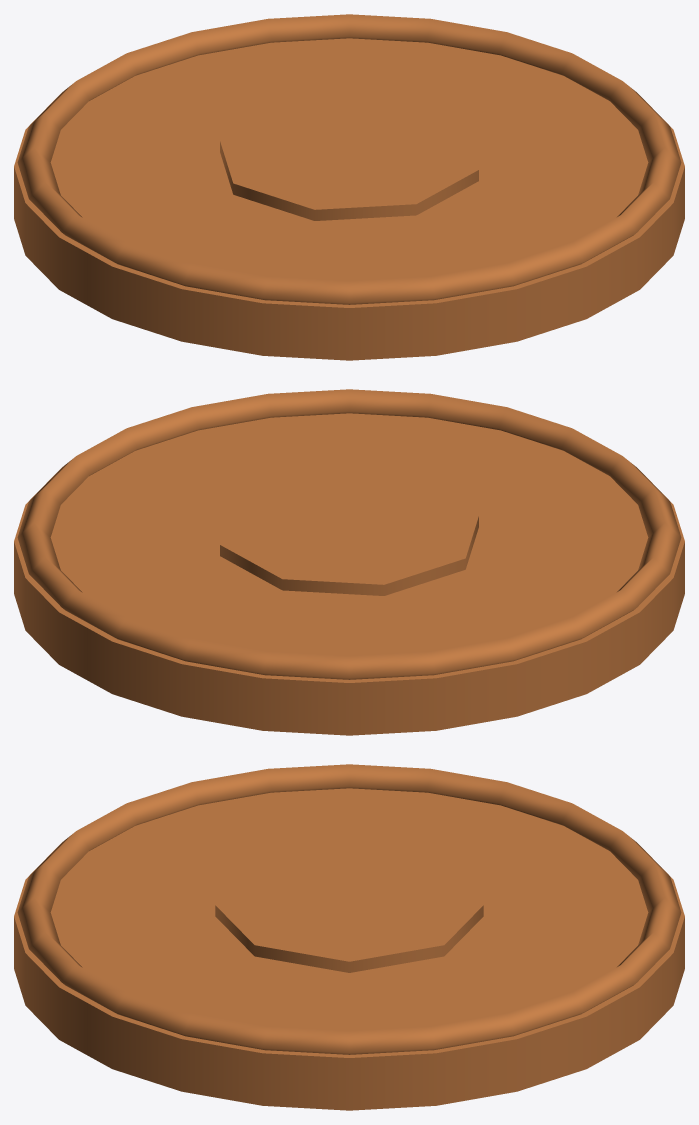
Rendered from coin.glb.
3 views of the same model, one above another, from view 1: azimuth 30°, elevation 25°; view 2: azimuth 150°, elevation 25°; view 3: azimuth 270°, elevation 25° (orthographic).
Parts seen in each view (by area): view 1: coin; view 2: coin; view 3: coin.
Part boxes in pixels (x1,y1,x2,y2): coin: (14, 14, 684, 360); coin: (14, 389, 684, 735); coin: (14, 764, 684, 1110).
Size of the model in its own units: 1.62 by 0.19 by 1.62.
